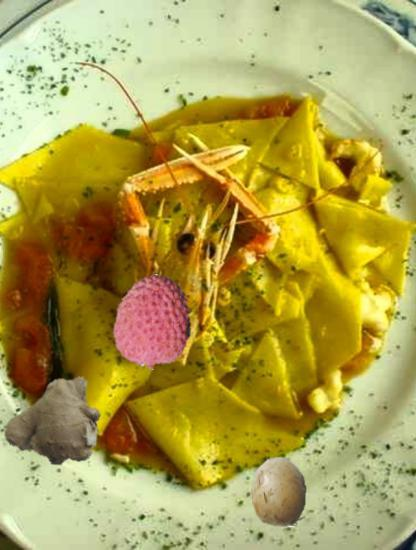Ginger: (4, 371, 102, 469)
Lychee: (104, 274, 200, 370)
Potato: (242, 456, 314, 528)
